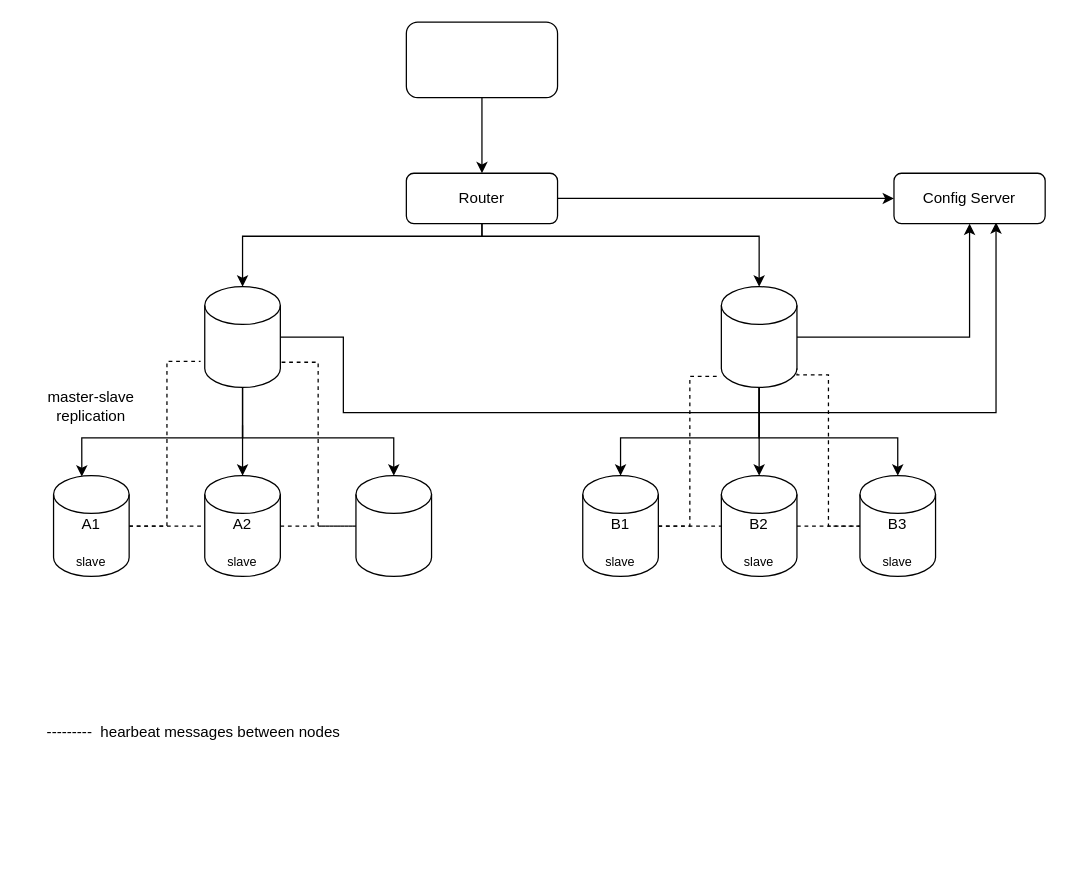
Some shapes in this 1067 by 869 pixel diagram are drawn without their labels. The shapes that lost their labels are listed below. From the top down, each one's centre as x and y in pixels, then its label:
[481,59]: pymongo-api
[241,336]: Shard A master
[758,336]: Shard 2
[393,525]: A3 slave
